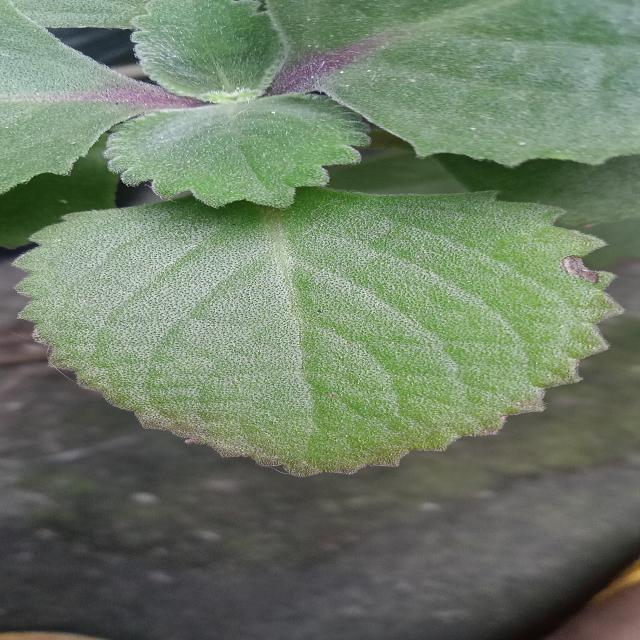Oregano: (11, 112, 640, 502)
